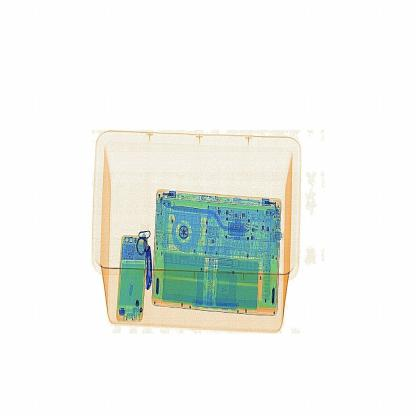knife: (139, 235, 162, 298)
